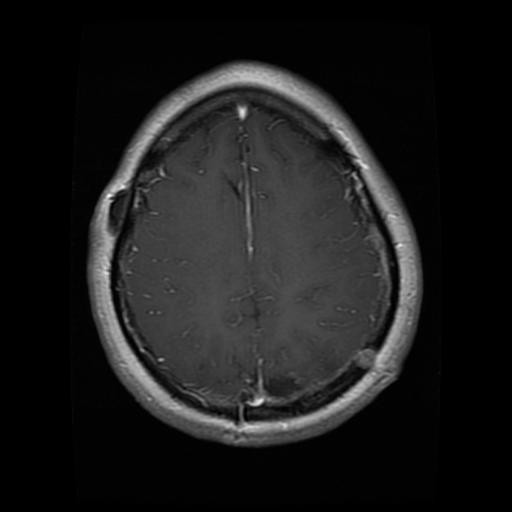Gliomia_tumour: (262, 371, 303, 397)
